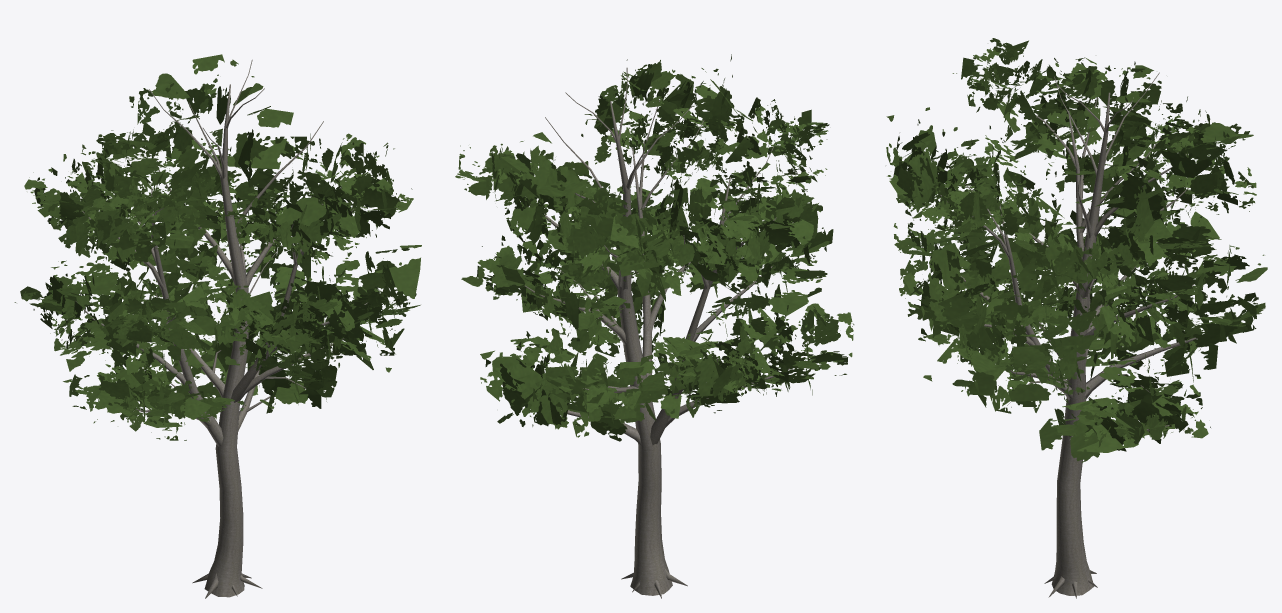
File: HeroRedMapleLOD0.fbx
3 renders of one model, left to right at view 1: azimuth 30°, elevation 25°; view 2: azimuth 150°, elevation 25°; view 3: azimuth 270°, elevation 25°, orthographic. The views are drawn at different scales.
Parts seen in each view (by area): view 1: Foliage, Bark; view 2: Foliage, Bark; view 3: Foliage, Bark.
Boxes of the visible parts, left/top/right/bottom form: Foliage: left=14, top=54, right=421, bottom=440; Bark: left=75, top=59, right=367, bottom=598; Foliage: left=455, top=54, right=854, bottom=441; Bark: left=525, top=67, right=789, bottom=598; Foliage: left=886, top=38, right=1267, bottom=462; Bark: left=940, top=72, right=1196, bottom=598.
Bounding box in the file's own units: 13.69 × 19.96 × 12.4.
